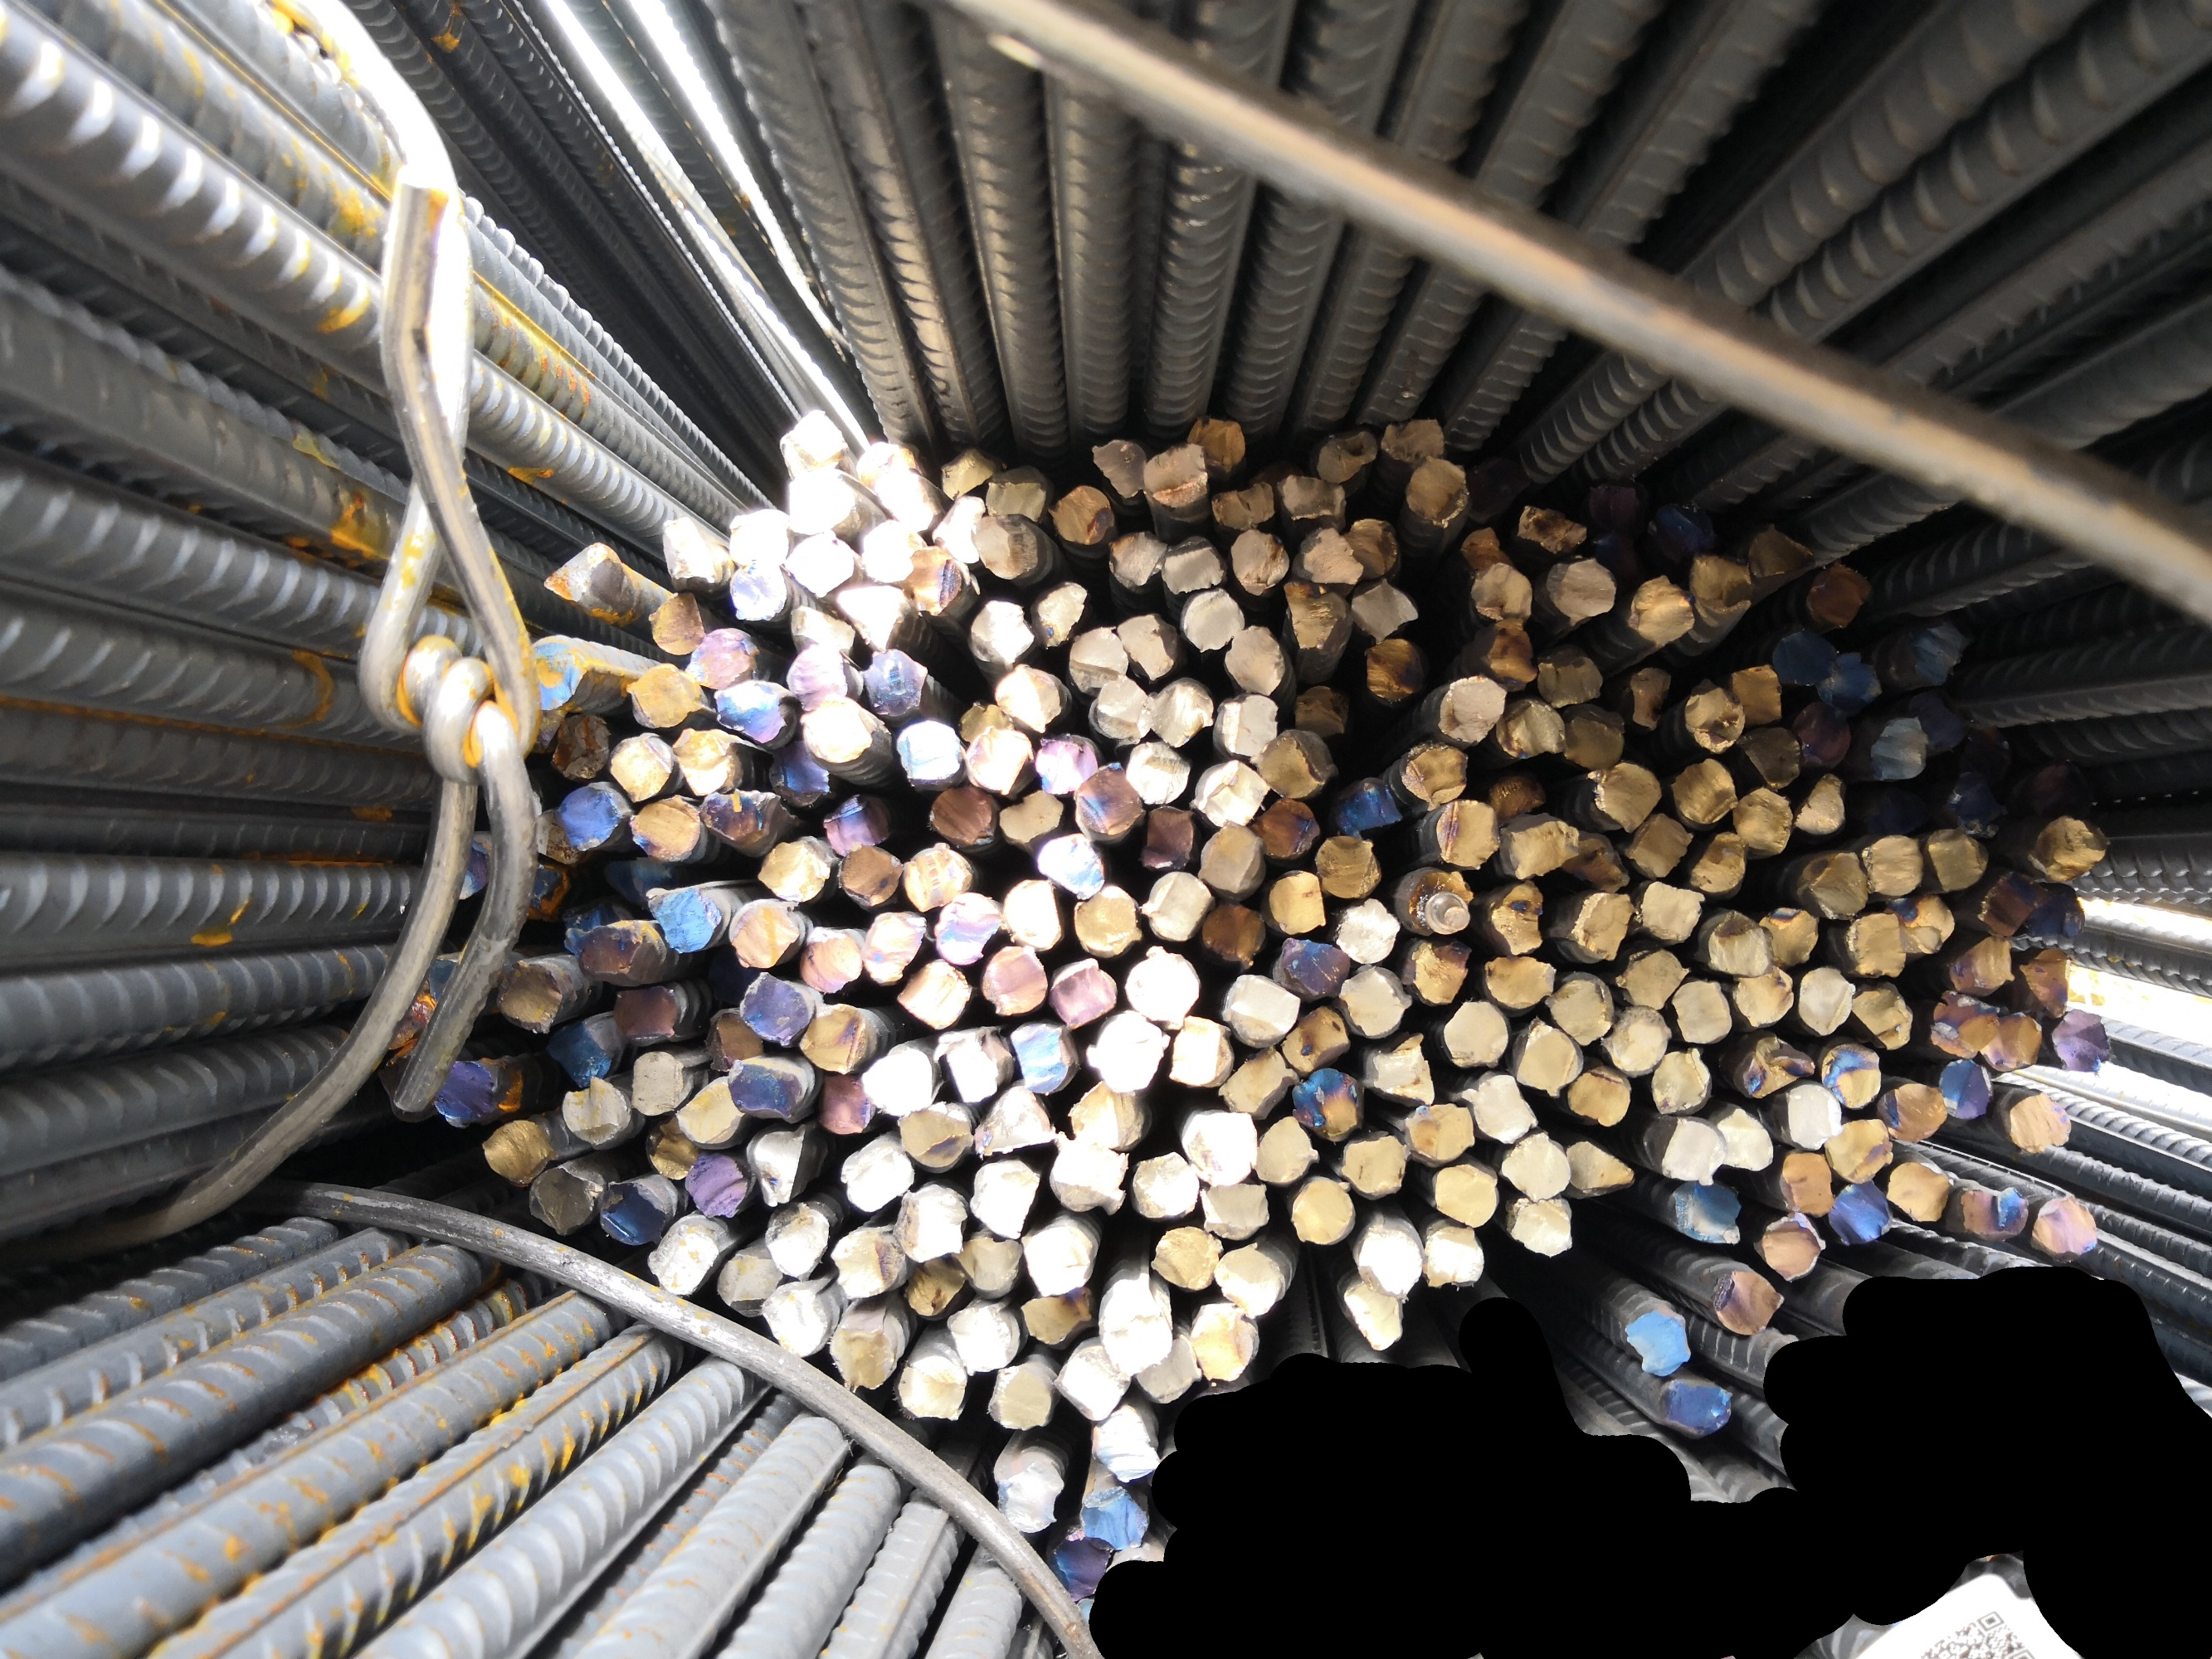rebar: (1048, 1129, 1133, 1215), (1086, 1011, 1173, 1094), (1123, 946, 1203, 1033), (1178, 1105, 1262, 1185), (1096, 1293, 1175, 1377), (1051, 1344, 1131, 1424), (973, 1082, 1056, 1159), (643, 1218, 722, 1297), (544, 535, 621, 615), (1217, 1044, 1299, 1119), (1020, 1218, 1096, 1297), (892, 1183, 967, 1263), (1335, 962, 1415, 1037), (1220, 974, 1302, 1047), (971, 1155, 1041, 1241), (2025, 812, 2111, 882), (896, 958, 976, 1032), (1353, 1223, 1426, 1304), (1459, 1072, 1539, 1145), (995, 1448, 1065, 1532), (1583, 762, 1666, 831), (737, 969, 812, 1046), (800, 692, 877, 767), (1211, 1241, 1286, 1317), (1928, 986, 2005, 1061), (1192, 758, 1271, 831), (1192, 821, 1265, 899), (1748, 1209, 1827, 1283), (744, 1122, 812, 1206), (1515, 1014, 1583, 1098), (1977, 864, 2052, 939), (560, 1073, 633, 1150), (828, 1323, 901, 1399), (992, 660, 1065, 737), (1067, 1079, 1143, 1152), (1394, 739, 1471, 812), (1626, 572, 1700, 648), (641, 884, 722, 953), (1091, 1403, 1159, 1485), (840, 1141, 915, 1215), (1070, 882, 1143, 957), (1497, 1129, 1572, 1202), (758, 1283, 830, 1359), (757, 835, 833, 906), (626, 659, 702, 730), (711, 674, 790, 744), (1072, 762, 1142, 840), (1708, 1270, 1787, 1340), (1271, 936, 1353, 1002), (523, 1162, 596, 1236), (1259, 728, 1332, 802), (1438, 674, 1511, 748), (1048, 957, 1119, 1032), (1140, 871, 1215, 943), (1543, 974, 1618, 1046), (1604, 1004, 1675, 1079), (1705, 906, 1776, 981), (1625, 1307, 1696, 1382), (675, 1072, 744, 1148), (861, 1046, 938, 1115), (784, 465, 861, 535), (1279, 577, 1349, 653), (1567, 885, 1635, 964), (521, 633, 587, 713), (1740, 1035, 1820, 1101), (945, 1302, 1016, 1375), (729, 897, 800, 971), (901, 840, 973, 913), (859, 647, 931, 720), (1557, 697, 1628, 770), (898, 1100, 973, 1169), (835, 584, 910, 653), (1368, 1032, 1438, 1107), (1903, 612, 1973, 687), (495, 958, 563, 1035), (1335, 1129, 1412, 1197), (1666, 1178, 1743, 1246), (1051, 1521, 1114, 1603), (481, 1117, 553, 1188), (831, 1230, 903, 1302), (798, 1002, 868, 1075), (629, 791, 702, 861), (964, 721, 1034, 795), (973, 511, 1046, 580), (1292, 1066, 1365, 1136), (1825, 1114, 1898, 1183), (431, 1058, 499, 1133), (981, 941, 1049, 1016), (1035, 833, 1110, 901), (1187, 1310, 1255, 1385), (1443, 997, 1511, 1072), (1506, 812, 1581, 880), (725, 1058, 802, 1124), (765, 1202, 831, 1279), (863, 906, 927, 985), (657, 509, 722, 587), (1166, 1014, 1231, 1093), (716, 1248, 786, 1319), (786, 528, 856, 599), (1077, 1483, 1147, 1554), (1429, 1157, 1501, 1227), (1435, 796, 1504, 868), (1862, 714, 1933, 784), (1799, 850, 1869, 922), (1823, 1178, 1893, 1249), (892, 1356, 966, 1424), (969, 594, 1037, 667), (1150, 1227, 1224, 1295), (934, 890, 1001, 965), (1496, 694, 1571, 760), (1949, 765, 2015, 840), (1684, 678, 1748, 755), (1398, 1101, 1478, 1162), (983, 1364, 1053, 1434), (894, 716, 964, 786), (1130, 1150, 1199, 1220), (1804, 558, 1874, 627), (1815, 645, 1884, 714), (1672, 756, 1741, 826), (556, 779, 624, 850), (765, 739, 833, 810), (777, 406, 849, 474), (1279, 1006, 1351, 1073), (1407, 934, 1475, 1006), (1635, 880, 1706, 948), (1951, 927, 2019, 999), (2008, 1087, 2076, 1159), (2031, 1192, 2099, 1263), (936, 1032, 1002, 1105), (1729, 781, 1795, 854), (1407, 455, 1471, 530), (544, 1019, 612, 1089), (1353, 577, 1421, 647), (1147, 680, 1215, 749), (1339, 1279, 1407, 1349), (1408, 866, 1478, 934), (1625, 812, 1694, 880), (1686, 551, 1754, 620), (1733, 718, 1801, 788), (1884, 1155, 1952, 1225), (608, 730, 675, 802), (1313, 831, 1384, 897), (1253, 1115, 1320, 1187), (1548, 558, 1619, 624), (950, 1234, 1023, 1298), (1020, 1279, 1093, 1344), (671, 725, 736, 798), (1424, 1223, 1489, 1297), (1618, 946, 1691, 1011), (1490, 880, 1551, 957), (1126, 739, 1194, 807), (1135, 1335, 1203, 1403), (683, 624, 753, 690), (784, 643, 851, 713), (1571, 477, 1640, 544), (1903, 683, 1970, 753), (1841, 910, 1907, 979), (1483, 613, 1541, 694), (927, 784, 999, 849), (2053, 1004, 2118, 1075), (1713, 1107, 1778, 1178), (1002, 877, 1065, 950), (1661, 1377, 1734, 1439), (1515, 497, 1590, 558), (573, 924, 652, 981), (2020, 941, 2078, 1019), (600, 1182, 668, 1248), (797, 927, 865, 993), (1051, 483, 1117, 551), (1182, 587, 1248, 655), (1215, 692, 1281, 760), (1508, 1194, 1574, 1262), (1773, 626, 1841, 692), (2024, 882, 2090, 950), (1860, 829, 1926, 897), (1659, 1117, 1726, 1185), (612, 985, 682, 1049), (1731, 960, 1795, 1030), (1224, 622, 1286, 694), (1785, 1079, 1846, 1152), (1011, 1019, 1070, 1094), (1030, 579, 1089, 653), (1198, 1183, 1272, 1243), (1562, 1136, 1637, 1195), (823, 789, 891, 854), (1255, 796, 1323, 861), (1290, 1178, 1354, 1246), (1337, 897, 1401, 965), (1562, 829, 1630, 894), (1537, 645, 1605, 709), (1851, 986, 1916, 1054), (814, 1066, 877, 1136), (842, 840, 905, 910), (1091, 673, 1154, 742), (1264, 868, 1327, 938), (1822, 1039, 1884, 1108), (1067, 622, 1128, 694), (1483, 950, 1557, 1009), (1797, 964, 1856, 1037), (933, 444, 1008, 502), (683, 1154, 748, 1220), (1032, 730, 1098, 795), (985, 462, 1051, 526), (1203, 901, 1267, 967), (1755, 903, 1822, 967), (873, 465, 936, 533), (1569, 1065, 1637, 1127), (1879, 1080, 1947, 1143), (1886, 894, 1956, 955), (1116, 608, 1175, 680), (1959, 1185, 2031, 1244), (1926, 826, 1991, 890), (725, 507, 791, 570), (648, 587, 709, 655), (995, 786, 1063, 847), (905, 545, 966, 613), (1297, 530, 1365, 591), (1637, 509, 1705, 570), (1367, 636, 1426, 706), (1748, 525, 1818, 584), (1687, 828, 1747, 897), (1652, 1046, 1712, 1115), (699, 788, 772, 843), (704, 1011, 767, 1075), (1143, 443, 1208, 505), (1471, 561, 1536, 624), (1107, 526, 1170, 591), (861, 518, 922, 584), (1157, 533, 1224, 594), (1670, 978, 1731, 1044), (1774, 1148, 1835, 1215), (1140, 803, 1199, 871), (551, 711, 608, 781), (629, 1047, 687, 1117), (1792, 699, 1849, 769), (558, 899, 631, 953), (905, 1253, 966, 1317), (1858, 786, 1933, 838), (605, 852, 673, 910), (1231, 526, 1288, 594), (1333, 779, 1401, 836), (931, 495, 987, 565), (1794, 770, 1849, 840), (1088, 439, 1149, 502), (1984, 1011, 2045, 1073), (730, 556, 786, 624), (1342, 516, 1400, 580), (1942, 1054, 1996, 1122), (786, 603, 856, 655), (1625, 659, 1675, 730), (1316, 427, 1379, 484), (514, 861, 570, 925), (1729, 660, 1785, 725), (852, 436, 919, 490), (2020, 753, 2074, 817), (1187, 415, 1246, 472), (643, 1117, 699, 1178), (1278, 474, 1349, 521), (1210, 481, 1276, 532), (1292, 683, 1349, 739), (1381, 418, 1449, 465), (1487, 770, 1555, 817), (533, 805, 580, 868), (953, 699, 1014, 742), (1461, 525, 1511, 573)
